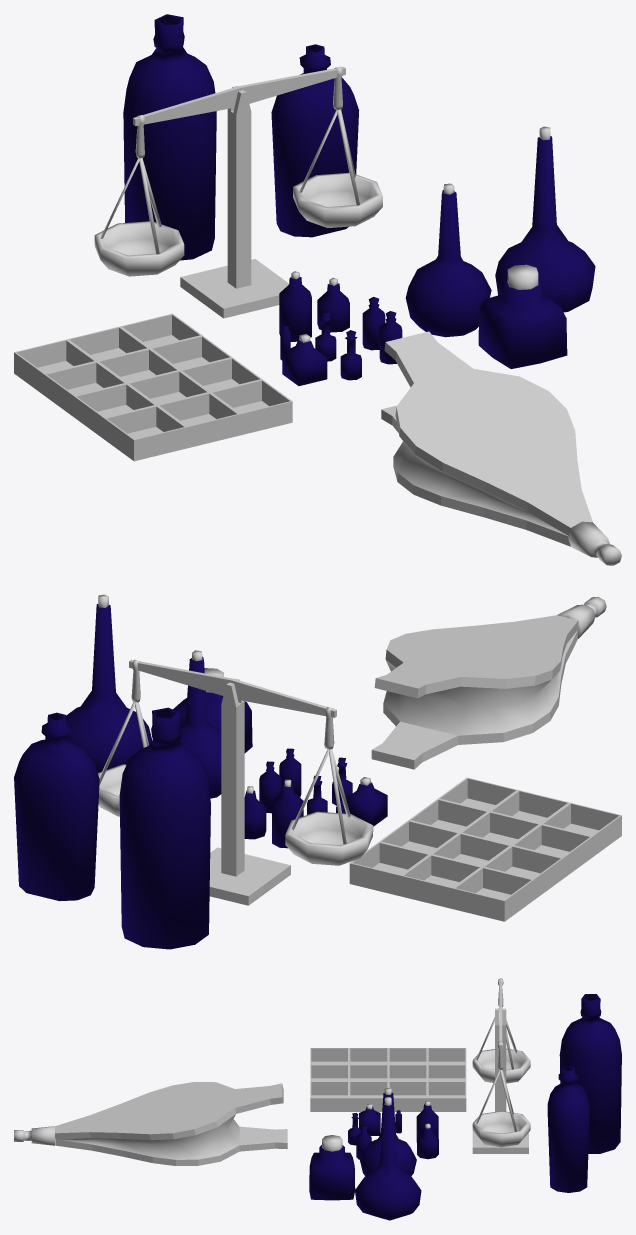
File: PotionsAlchemy.fbx
3 renders of one model, top to bottom at view 1: azimuth 30°, elevation 25°; view 2: azimuth 150°, elevation 25°; view 3: azimuth 270°, elevation 25°, orthographic. The views are drawn at different scales.
Visible parts, largest first — view 1: Circle, Circle.015, Circle.006, Circle.005, Circle.004, Circle.003, Circle.002, Circle.001, Circle.012, Circle.014, Circle.011, Circle.010 (+1 smaller); view 2: Circle.015, Circle, Circle.005, Circle.006, Circle.004, Circle.003, Circle.001, Circle.014, Circle.012, Circle.002, Circle.011, Circle.010 (+1 smaller); view 3: Circle, Circle.015, Circle.005, Circle.006, Circle.004, Circle.003, Circle.002, Circle.001, Circle.011, Circle.012, Circle.014.
Part boxes in pixels (left/top/right/bottom): Circle: left=381, top=331, right=621, bottom=565; Circle.015: left=14, top=313, right=292, bottom=461; Circle.006: left=94, top=66, right=382, bottom=318; Circle.005: left=123, top=14, right=216, bottom=260; Circle.004: left=271, top=44, right=359, bottom=237; Circle.003: left=495, top=126, right=595, bottom=312; Circle.002: left=478, top=264, right=567, bottom=368; Circle.001: left=405, top=183, right=491, bottom=337; Circle.012: left=279, top=271, right=311, bottom=341; Circle.014: left=282, top=334, right=327, bottom=385; Circle.011: left=317, top=277, right=349, bottom=332; Circle.010: left=362, top=297, right=385, bottom=350; Circle.015: left=349, top=777, right=621, bottom=921; Circle: left=371, top=596, right=606, bottom=769; Circle.005: left=119, top=707, right=210, bottom=949; Circle.006: left=97, top=659, right=373, bottom=905; Circle.004: left=14, top=712, right=99, bottom=901; Circle.003: left=66, top=594, right=151, bottom=772; Circle.001: left=179, top=650, right=221, bottom=798; Circle.014: left=346, top=777, right=387, bottom=826; Circle.012: left=272, top=779, right=303, bottom=848; Circle.002: left=173, top=668, right=252, bottom=753; Circle.011: left=244, top=786, right=266, bottom=839; Circle.010: left=259, top=761, right=281, bottom=813; Circle: left=14, top=1082, right=287, bottom=1165; Circle.015: left=310, top=1048, right=466, bottom=1111; Circle.005: left=559, top=994, right=621, bottom=1153; Circle.006: left=472, top=978, right=530, bottom=1153; Circle.004: left=547, top=1066, right=589, bottom=1192; Circle.003: left=355, top=1097, right=421, bottom=1220; Circle.002: left=309, top=1135, right=355, bottom=1200; Circle.001: left=360, top=1088, right=416, bottom=1175; Circle.011: left=417, top=1123, right=438, bottom=1159; Circle.012: left=416, top=1101, right=438, bottom=1142; Circle.014: left=359, top=1104, right=380, bottom=1135.
Bounding box in the file's own units: 647 × 272 × 1020.
